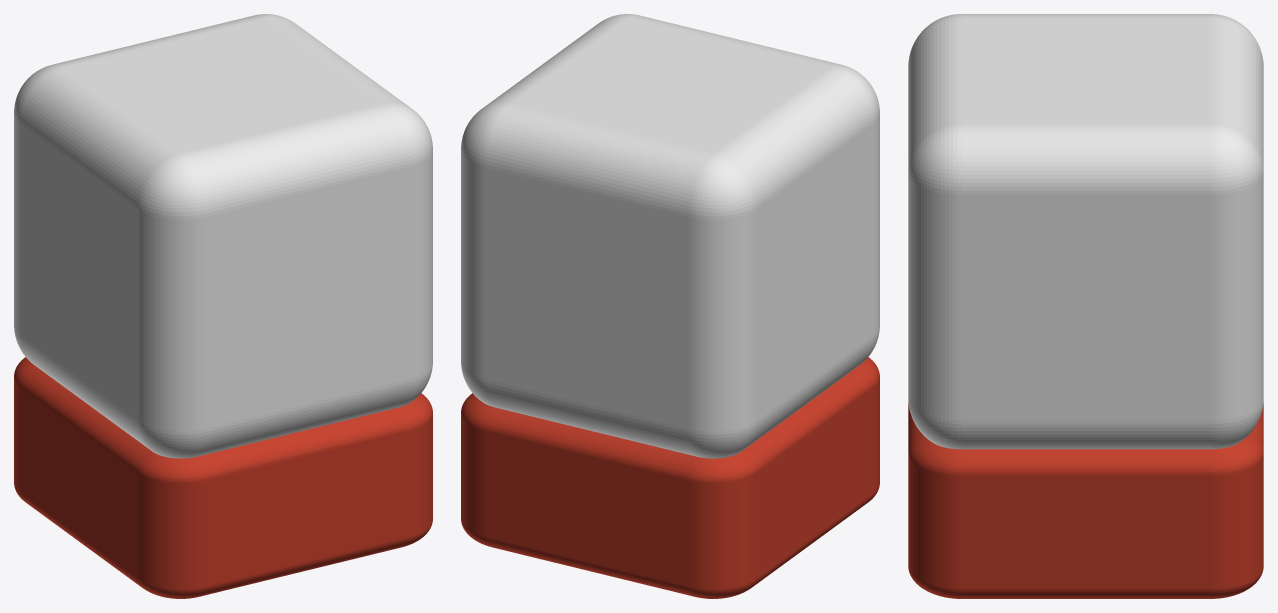
The model's file is wall.glb.
3 renders of one model, left to right at view 1: azimuth 30°, elevation 25°; view 2: azimuth 150°, elevation 25°; view 3: azimuth 270°, elevation 25°, orthographic. The views are drawn at different scales.
Parts seen in each view (by area): view 1: Upperside, Downside; view 2: Upperside, Downside; view 3: Upperside, Downside.
Boxes of the visible parts, x1,y1,x2,y2 form: Upperside: (14, 14, 432, 458); Downside: (14, 357, 432, 598); Upperside: (461, 14, 879, 458); Downside: (461, 357, 879, 598); Upperside: (908, 14, 1263, 449); Downside: (908, 402, 1263, 598).
Bounding box in the file's own units: 2 × 2.89 × 2.
